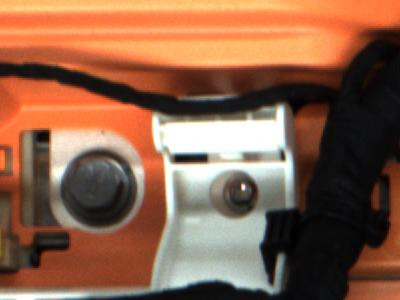nut_b: (58, 142, 147, 232)
